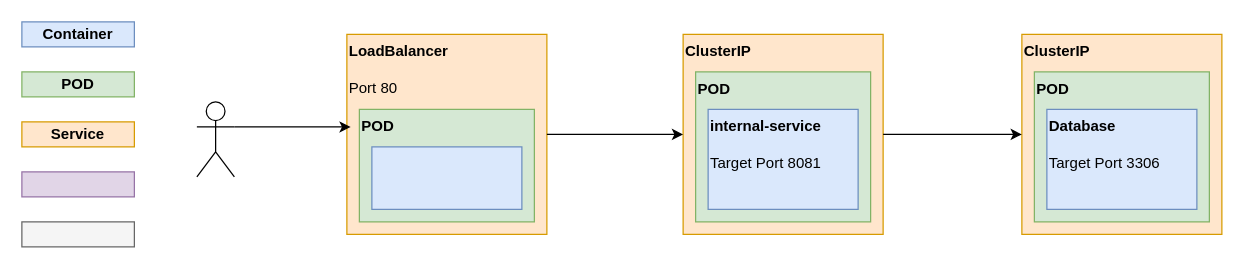
Some shapes in this 1244 by 269 pixel diagram are drawn without their labels. The shapes that lost their labels are listed below. From the top down, each one's centre as x and y in pixels, then its label:
the point at 215,139: Client
the point at 446,177: external-service Target Port 8080
